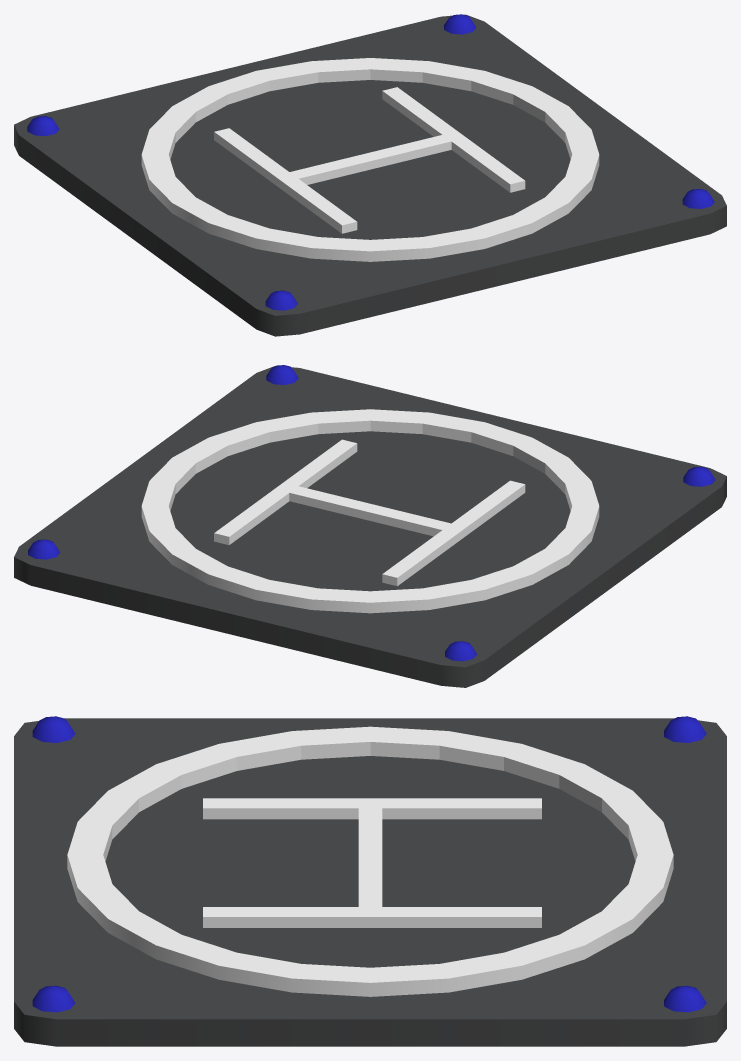
Rendered from SM_helicopter_pad.fbx.
The picture shows the model from 3 angles, top to bottom: view 1: azimuth 30°, elevation 25°; view 2: azimuth 150°, elevation 25°; view 3: azimuth 270°, elevation 25°; orthographic projection. The views are drawn at different scales.
Parts seen in each view (by area): view 1: Object32427; view 2: Object32427; view 3: Object32427.
Boxes of the visible parts, x1,y1,x2,y2 form: Object32427: (14, 14, 726, 336); Object32427: (14, 365, 726, 687); Object32427: (14, 716, 726, 1046).
Size of the model in its own units: 170 by 11.48 by 170.
